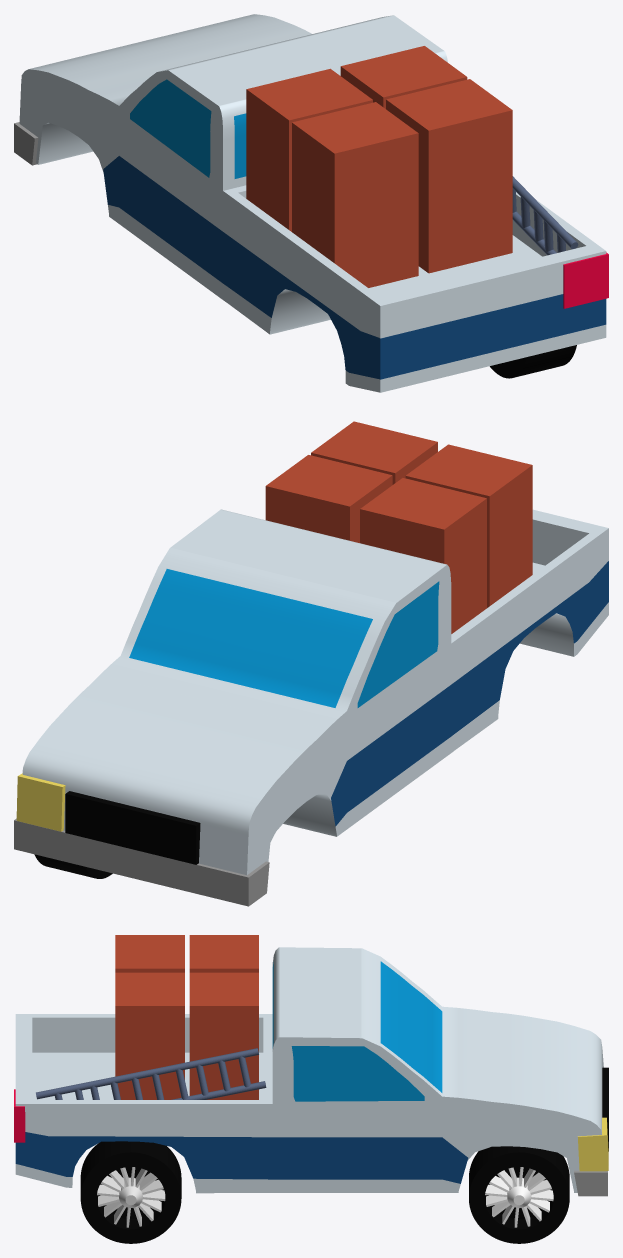
File: Truck.glb
The picture shows the model from 3 angles, top to bottom: view 1: azimuth 30°, elevation 25°; view 2: azimuth 150°, elevation 25°; view 3: azimuth 270°, elevation 25°; orthographic projection. The views are drawn at different scales.
Parts seen in each view (by area): view 1: TruckBody, Box.3, Box.4, Box, Box.2, Cylinder.001, BackLights, BackWheels, FrontBumper; view 2: TruckBody, Box, Box.3, FrontBumper, Box.2, FrontGrill, Box.4, FrontLights, FrontWheels; view 3: TruckBody, Box.4, Box.2, BackWheels, FrontWheels, Cylinder.001, FrontRims, BackRims, Box, Box.3, FrontLights, FrontBumper (+1 smaller).
Part boxes in pixels (x1,y1,x2,y2): TruckBody: (19,14,606,392); Box.3: (292,102,418,287); Box.4: (386,79,512,273); Box: (246,68,372,231); Box.2: (340,46,467,108); Cylinder.001: (512,176,578,255); BackLights: (563,252,608,308); BackWheels: (490,345,576,378); FrontBumper: (14,122,38,165); TruckBody: (22,509,608,875); Box: (360,478,486,633); Box.3: (405,444,532,607); FrontBumper: (14,818,269,906); Box.2: (265,455,392,542); FrontGrill: (65,791,200,864); Box.4: (311,421,437,484); FrontLights: (16,773,65,831); FrontWheels: (34,854,112,878); TruckBody: (15,947,603,1193); Box.4: (115,972,184,1099); Box.2: (189,972,258,1099); BackWheels: (80,1141,181,1243); FrontWheels: (469,1146,569,1243); Cylinder.001: (36,1048,266,1099); FrontRims: (485,1167,553,1227); BackRims: (97,1167,165,1227); Box: (189,935,258,972); Box.3: (115,935,184,972); FrontLights: (577,1117,608,1171); FrontBumper: (574,1170,607,1196).
Size of the model in its own units: 3.22 by 3.37 by 8.27.
